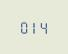four: (39, 20, 48, 34)
one: (29, 19, 38, 34)
zero: (18, 19, 27, 33)
